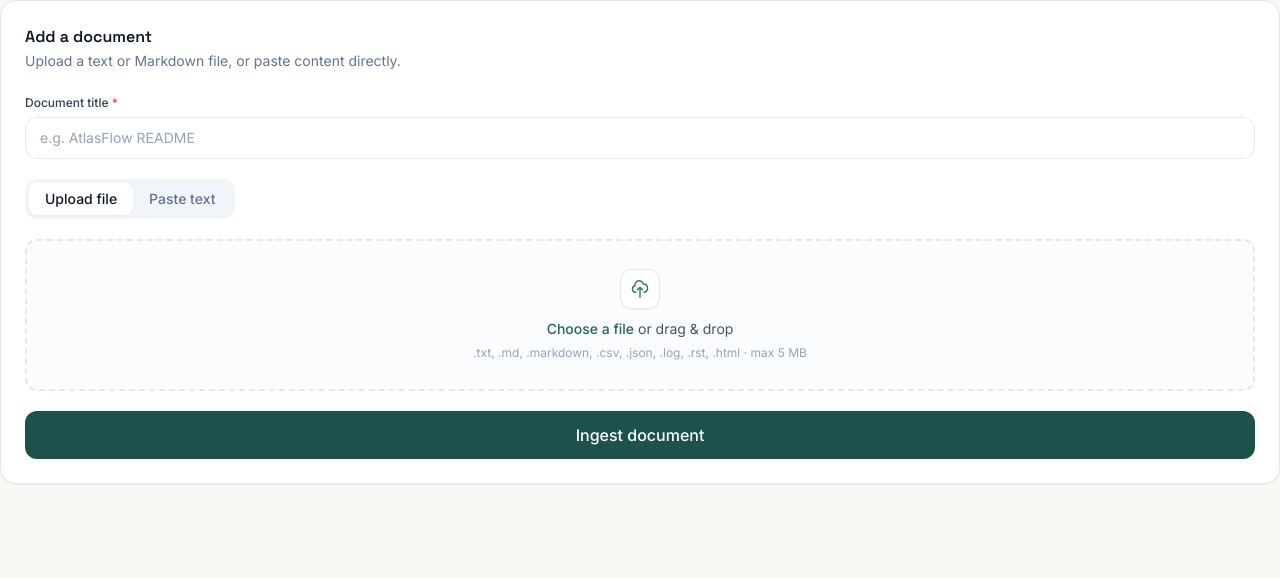
Scenario: IngestPanel › shows validation error when content is too short
In the field labelled "Document title *": [640, 138] box [25,117,1255,159], type "My Doc"
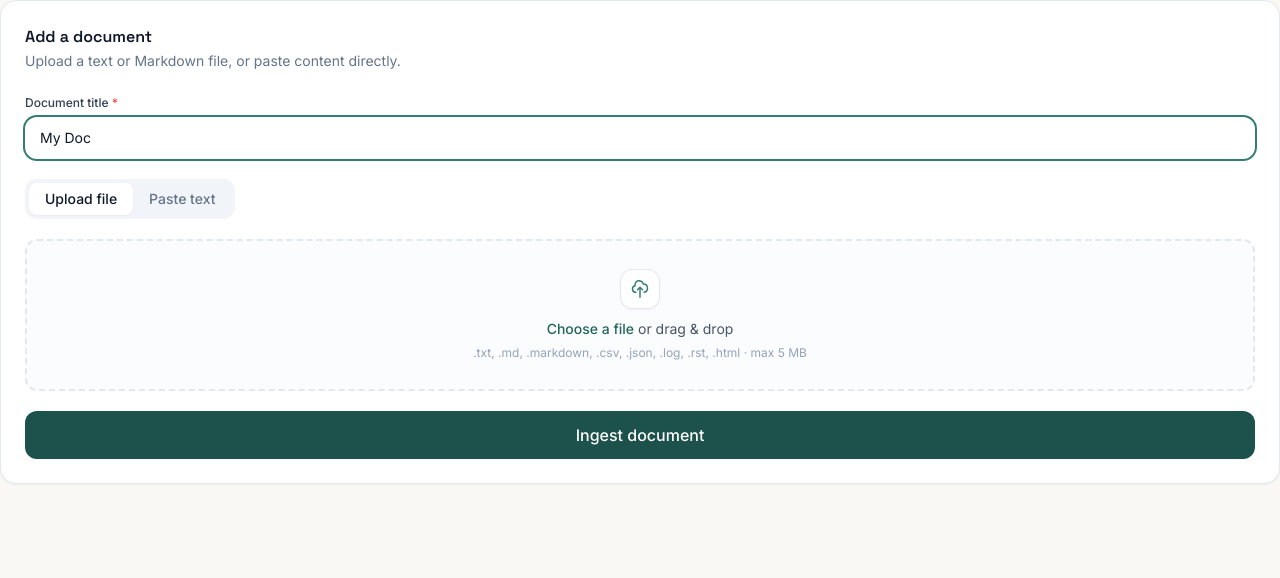
Click the tab "Paste text": [182, 199] box [133,183,232,215]
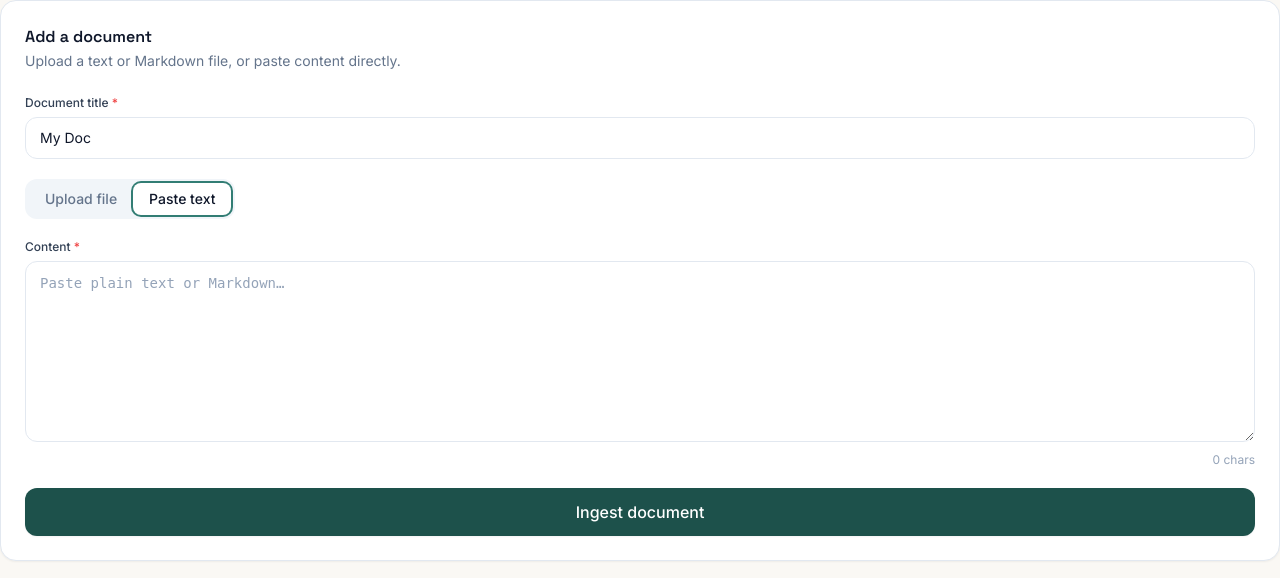
In the text box labelled "Content *": [640, 352] box [25,261,1255,442], type "Short"
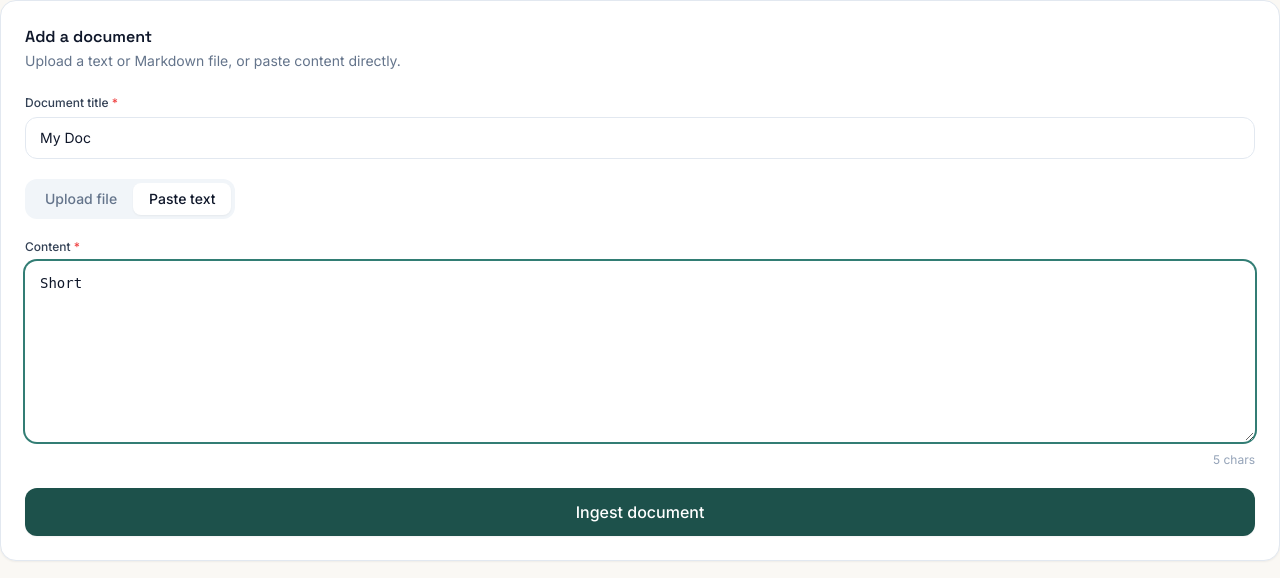
Click the button "Ingest document": [640, 512] box [25,488,1255,536]
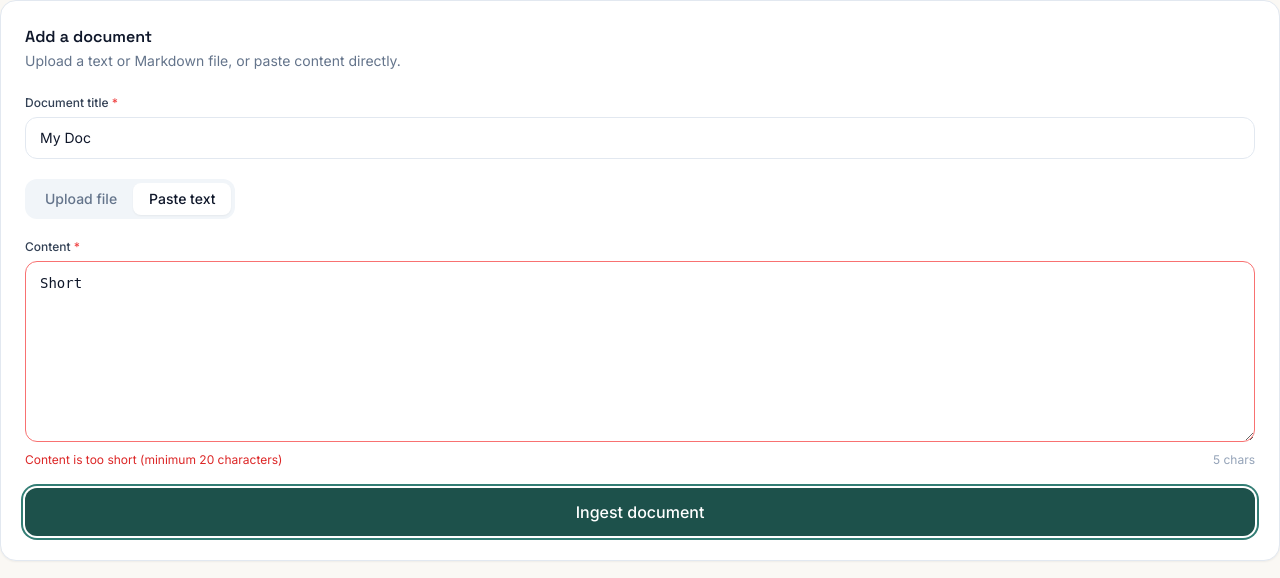
Now the text "Content is too short (minimum 20 characters)" is shown, box [25,452,282,468]
